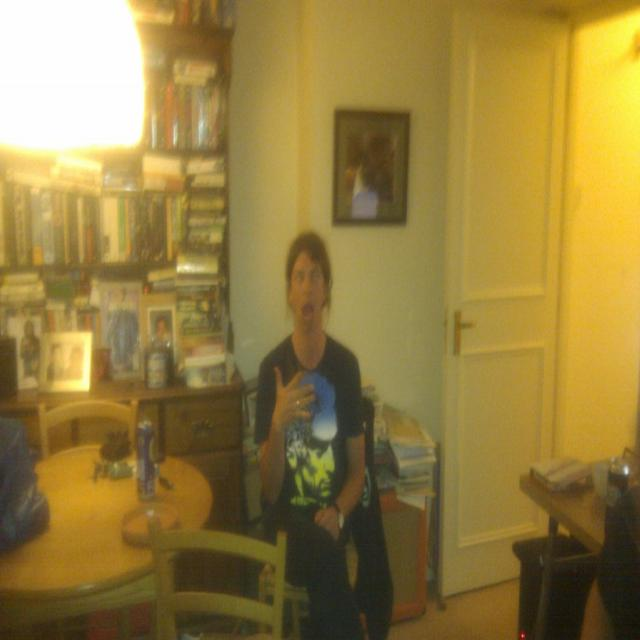chair: (148, 518, 291, 638), (37, 397, 136, 458)
desk: (506, 444, 634, 624)
person: (253, 230, 387, 638)
